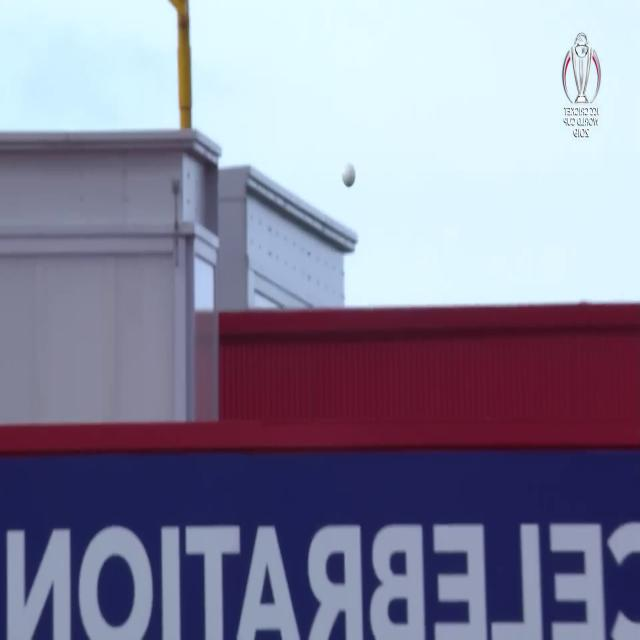ball: (336, 158, 358, 194)
